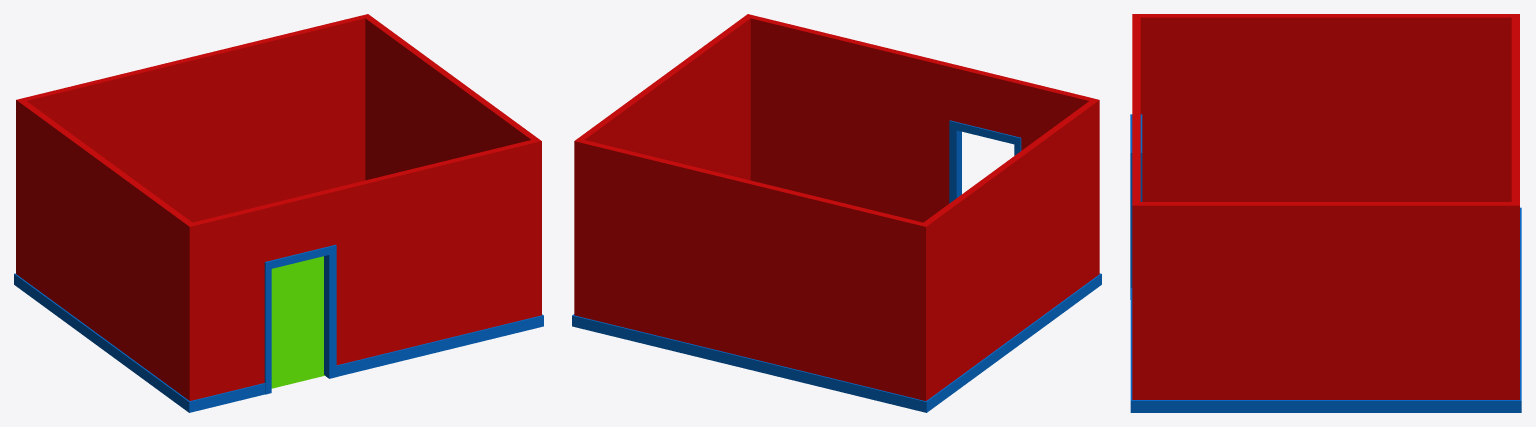
The model's file is Room.fbx.
The picture shows the model from 3 angles, left to right: view 1: azimuth 30°, elevation 25°; view 2: azimuth 150°, elevation 25°; view 3: azimuth 270°, elevation 25°; orthographic projection. The views are drawn at different scales.
Parts seen in each view (by area): view 1: Room; view 2: Room; view 3: Room.
Boxes of the visible parts, <box> form: Room: <box>14,14,543,412</box>; Room: <box>572,14,1101,412</box>; Room: <box>1130,14,1521,412</box>.
Bounding box in the file's own units: 604 × 301 × 517.
